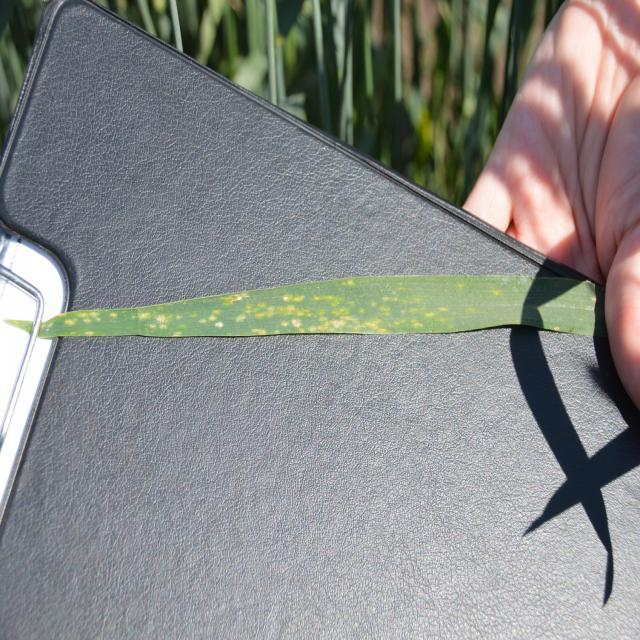wheat-powdery-mildew: (41, 279, 439, 336)
